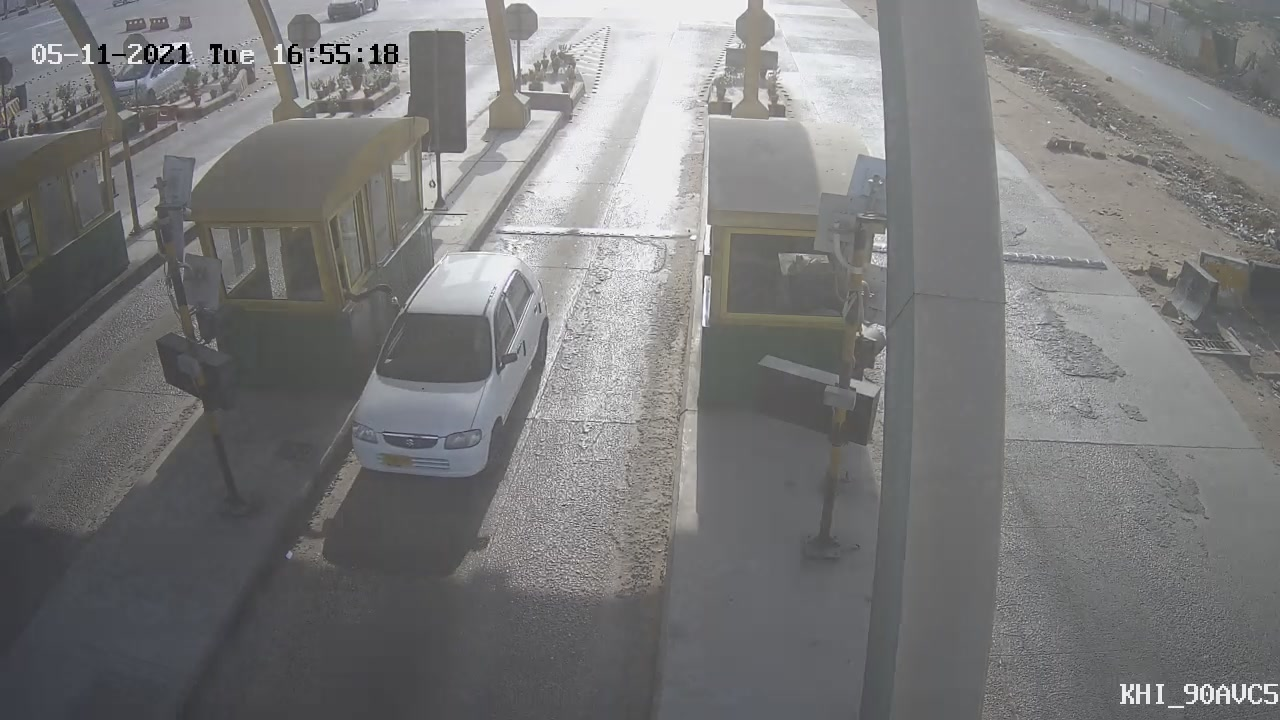F1: (321, 233, 569, 504)
